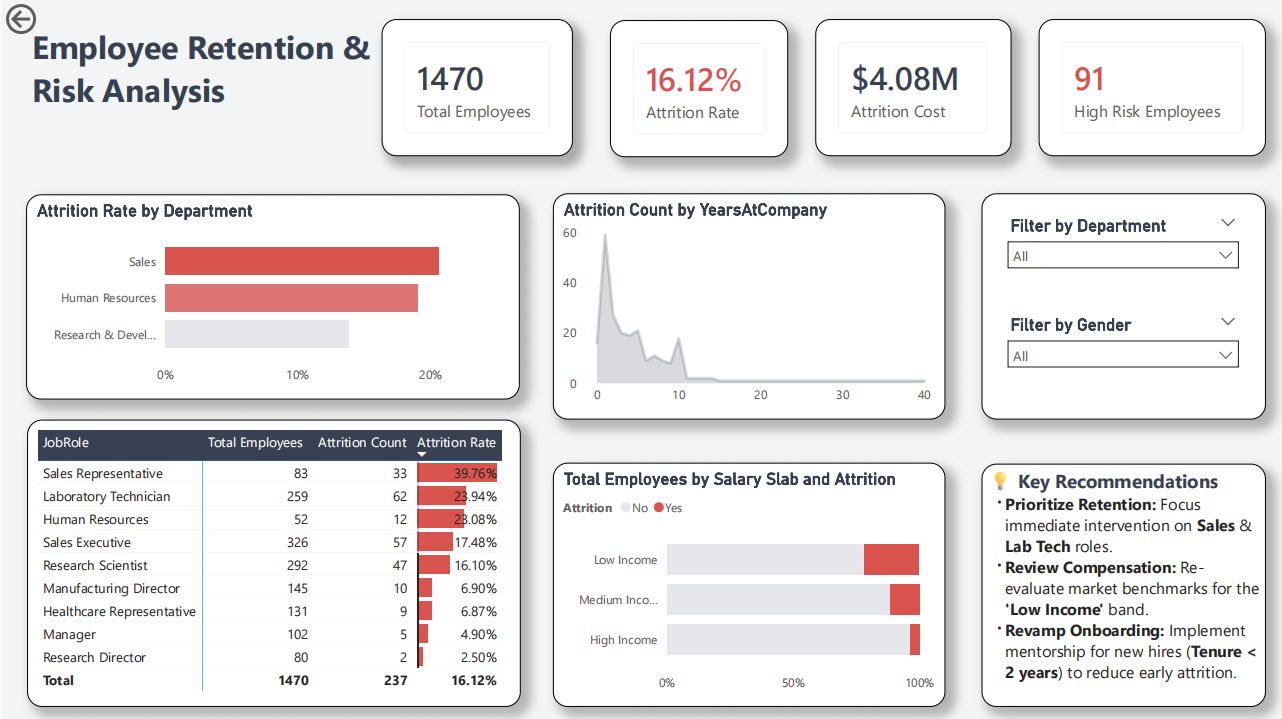

The page's visual inventory and layout, read from the dashboard file:
{"tool":"powerbi","page":{"name":"Page 1","canvas":[1280,720],"ordinal":0},"visuals":[{"type":"cardVisual","fields":{"Data":["WA_Fn-UseC_-HR-Employee-Attrition.Total Employees"]},"box":[380,20,191.4,137.1],"z":0},{"type":"shape","box":[978.6,464.3,284.3,242.9],"z":0,"group":"g2"},{"type":"cardVisual","fields":{"Data":["WA_Fn-UseC_-HR-Employee-Attrition.Attrition Rate"]},"box":[607.9,20.6,178.4,137.2],"z":1000},{"type":"shape","box":[978.6,194.3,284.3,225.7],"z":1000,"group":"g1"},{"type":"cardVisual","fields":{"Data":["WA_Fn-UseC_-HR-Employee-Attrition.High Risk Employees"]},"box":[1035.7,20,227.1,137.1],"z":2000},{"type":"cardVisual","fields":{"Data":["WA_Fn-UseC_-HR-Employee-Attrition.Attrition Cost"]},"box":[812.9,20,195.7,137.1],"z":3000},{"type":"clusteredBarChart","fields":{"Y":["WA_Fn-UseC_-HR-Employee-Attrition.Attrition Rate"],"Category":["WA_Fn-UseC_-HR-Employee-Attrition.Department"]},"box":[25,195,493.3,205],"z":4000},{"type":"areaChart","fields":{"Y":["WA_Fn-UseC_-HR-Employee-Attrition.Attrition Count"],"Category":["WA_Fn-UseC_-HR-Employee-Attrition.YearsAtCompany"]},"box":[551.4,194.3,391.4,225.7],"z":5000},{"type":"pivotTable","fields":{"Rows":["WA_Fn-UseC_-HR-Employee-Attrition.JobRole"],"Values":["WA_Fn-UseC_-HR-Employee-Attrition.Total Employees","WA_Fn-UseC_-HR-Employee-Attrition.Attrition Count","WA_Fn-UseC_-HR-Employee-Attrition.Attrition Rate"]},"box":[25.7,420,492.9,287.1],"z":6000},{"type":"hundredPercentStackedBarChart","fields":{"Category":["WA_Fn-UseC_-HR-Employee-Attrition.Salary Slab"],"Y":["WA_Fn-UseC_-HR-Employee-Attrition.Total Employees"],"Series":["WA_Fn-UseC_-HR-Employee-Attrition.Attrition"]},"box":[551.4,462.9,391.4,244.3],"z":7000},{"type":"actionButton","box":[0,0,100,40],"z":8000},{"type":"group","id":"g1","title":"Group 2","box":[978.6,194.3,284.3,225.7],"z":9000},{"type":"slicer","fields":{"Values":["WA_Fn-UseC_-HR-Employee-Attrition.Department"]},"box":[994.7,211.4,251.5,92],"z":10000,"group":"g3"},{"type":"group","id":"g2","title":"Group 3","box":[978.6,463.1,284.6,253.9],"z":10000},{"type":"textbox","box":[25.7,20,367.1,137.1],"z":11000},{"type":"slicer","fields":{"Values":["WA_Fn-UseC_-HR-Employee-Attrition.Gender"]},"box":[994.7,310.4,251.5,78.1],"z":11000,"group":"g3"},{"type":"textbox","box":[979.2,463.1,284,253.9],"z":13000,"group":"g2"},{"type":"group","id":"g3","title":"Group 1","box":[994.7,211.4,251.5,177.1],"z":13001,"group":"g1"}]}

Visuals, with their boxes in screenshot pixels (x1, y1, x2, y2), scaled from the page's 1280x720 canvas onto the 1282x719 screenshot:
cardVisual - WA_Fn-UseC_-HR-Employee-Attrition.Total Employees: <bbox>381, 20, 572, 157</bbox>
shape: <bbox>980, 464, 1265, 706</bbox>
cardVisual - WA_Fn-UseC_-HR-Employee-Attrition.Attrition Rate: <bbox>609, 21, 788, 158</bbox>
shape: <bbox>980, 194, 1265, 419</bbox>
cardVisual - WA_Fn-UseC_-HR-Employee-Attrition.High Risk Employees: <bbox>1037, 20, 1265, 157</bbox>
cardVisual - WA_Fn-UseC_-HR-Employee-Attrition.Attrition Cost: <bbox>814, 20, 1010, 157</bbox>
clusteredBarChart - WA_Fn-UseC_-HR-Employee-Attrition.Attrition Rate x WA_Fn-UseC_-HR-Employee-Attrition.Department: <bbox>25, 195, 519, 399</bbox>
areaChart - WA_Fn-UseC_-HR-Employee-Attrition.Attrition Count x WA_Fn-UseC_-HR-Employee-Attrition.YearsAtCompany: <bbox>552, 194, 944, 419</bbox>
pivotTable - WA_Fn-UseC_-HR-Employee-Attrition.JobRole x WA_Fn-UseC_-HR-Employee-Attrition.Total Employees: <bbox>26, 419, 519, 706</bbox>
hundredPercentStackedBarChart - WA_Fn-UseC_-HR-Employee-Attrition.Salary Slab x WA_Fn-UseC_-HR-Employee-Attrition.Total Employees: <bbox>552, 462, 944, 706</bbox>
actionButton: <bbox>0, 0, 100, 40</bbox>
"Group 2" group: <bbox>980, 194, 1265, 419</bbox>
slicer - WA_Fn-UseC_-HR-Employee-Attrition.Department: <bbox>996, 211, 1248, 303</bbox>
"Group 3" group: <bbox>980, 462, 1265, 716</bbox>
textbox: <bbox>26, 20, 393, 157</bbox>
slicer - WA_Fn-UseC_-HR-Employee-Attrition.Gender: <bbox>996, 310, 1248, 388</bbox>
textbox: <bbox>981, 462, 1265, 716</bbox>
"Group 1" group: <bbox>996, 211, 1248, 388</bbox>
